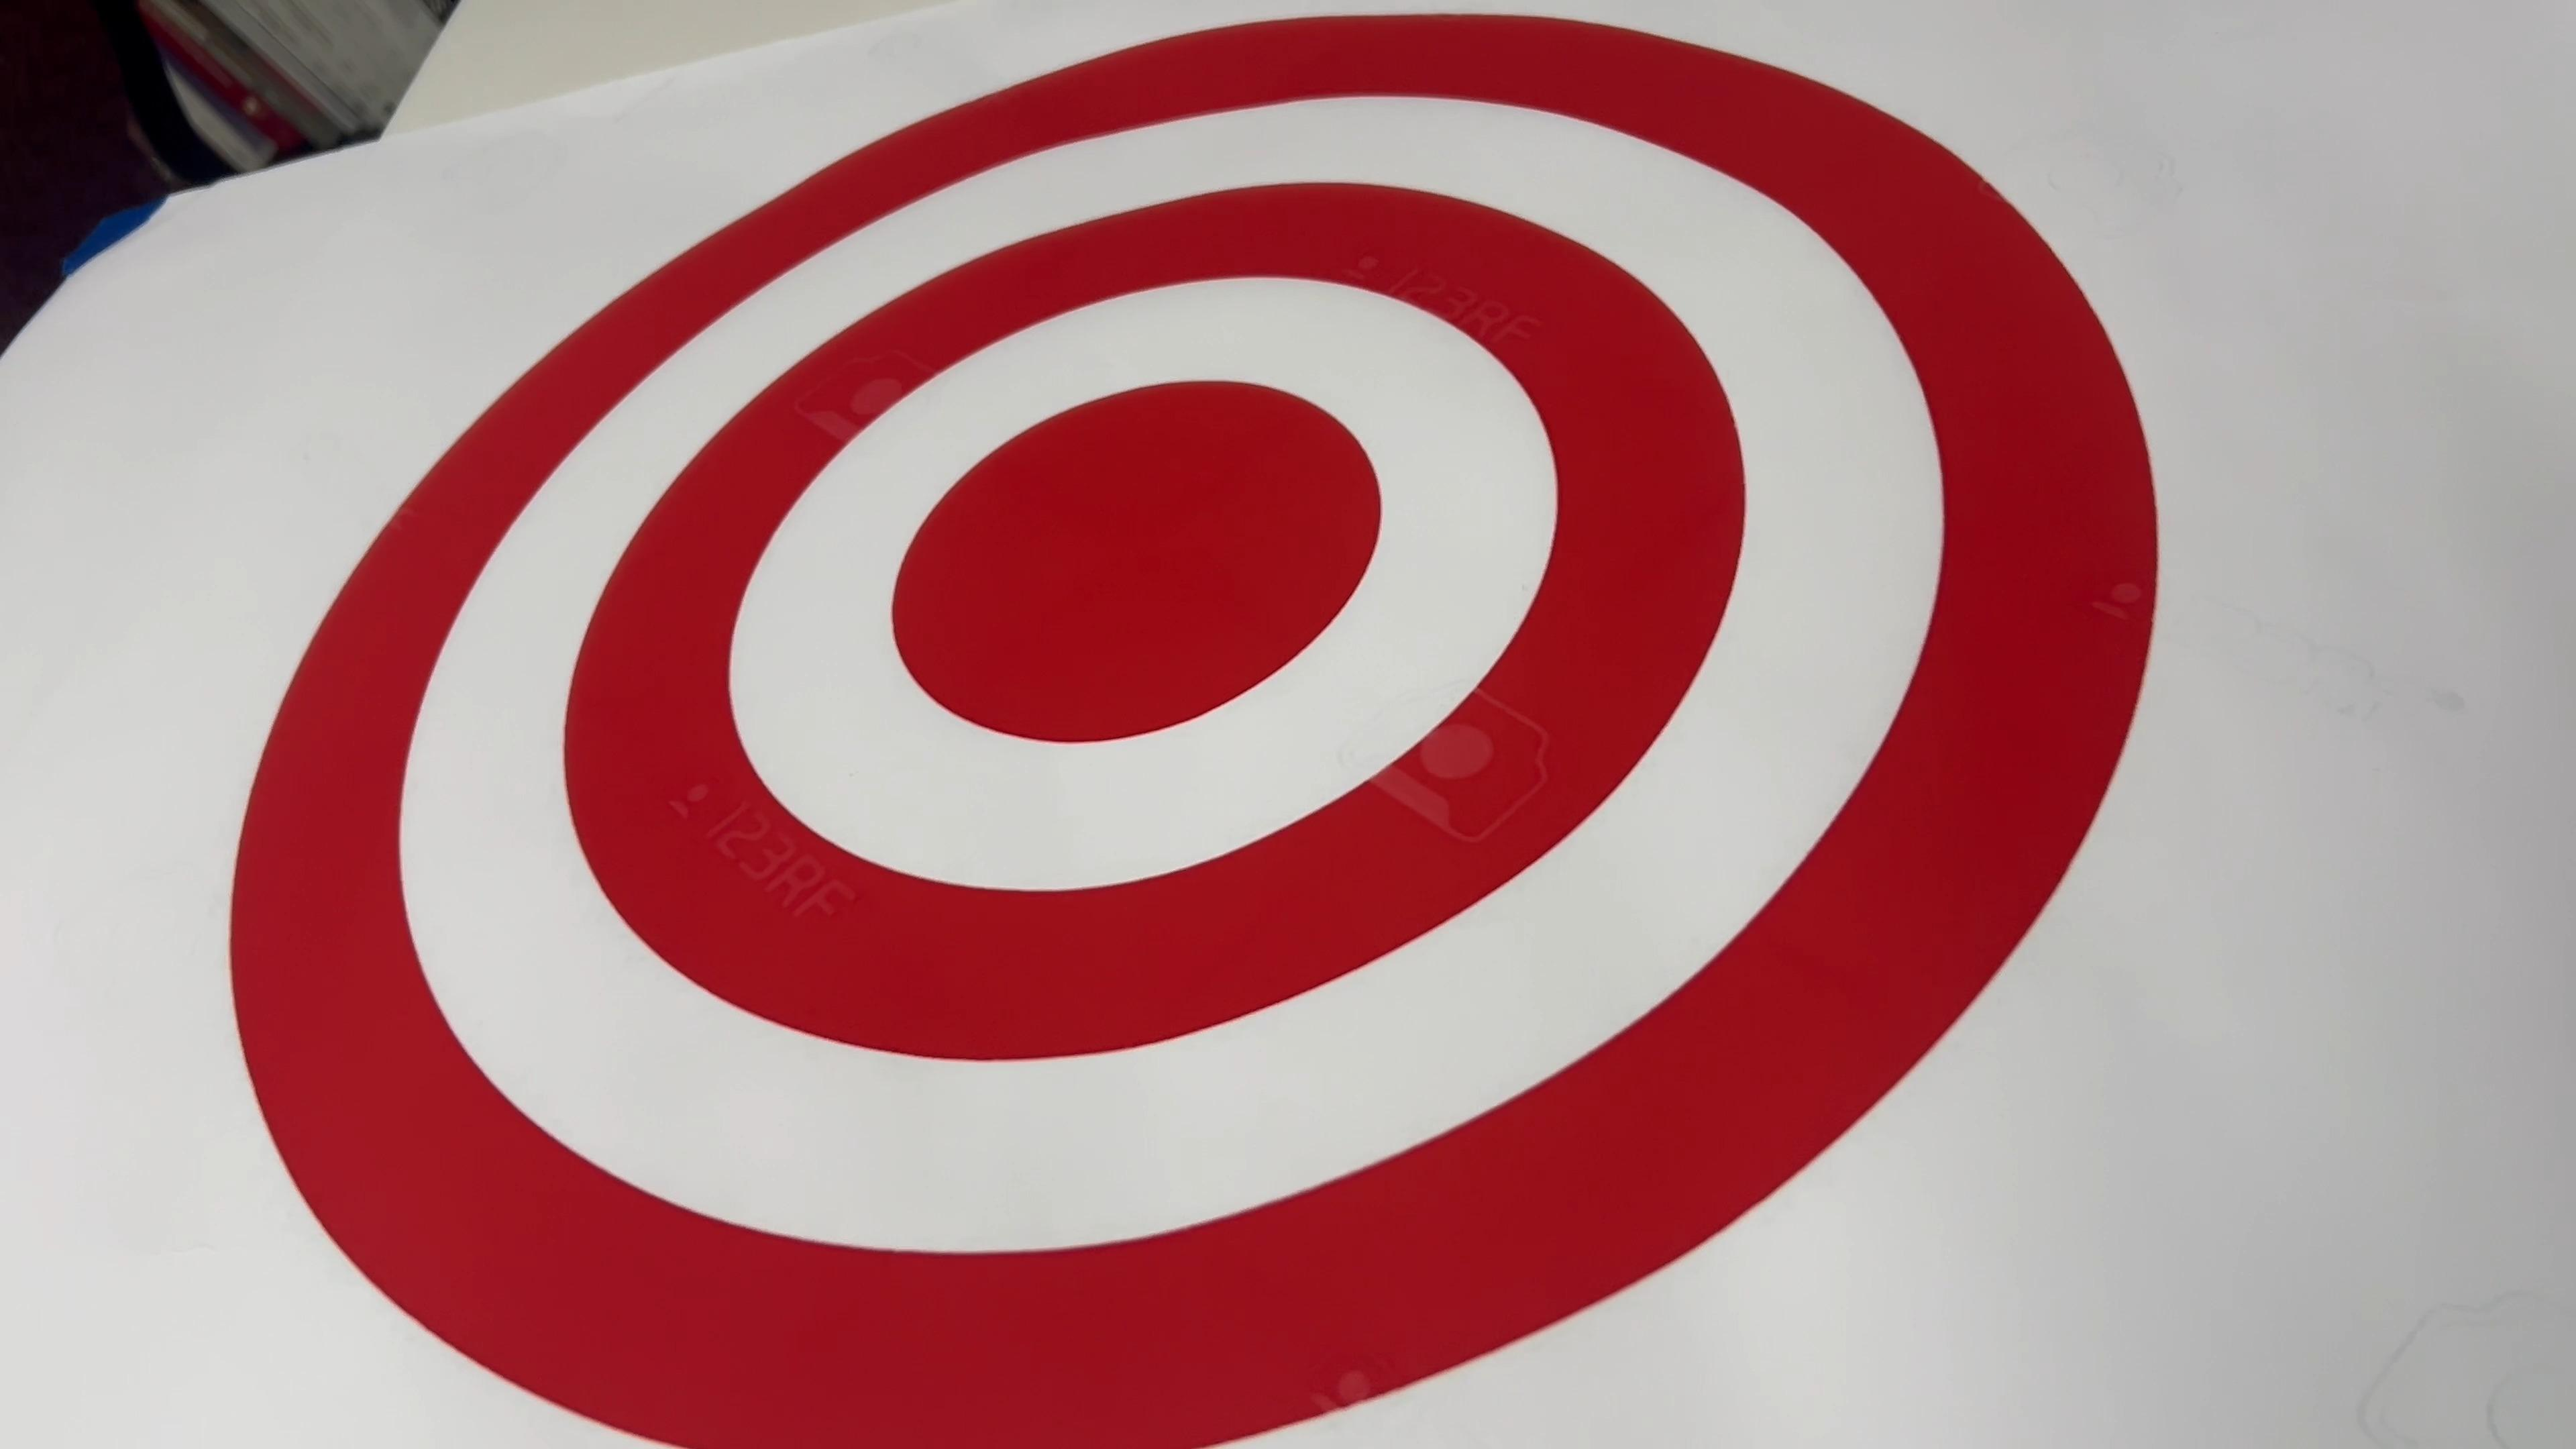target_red: (189, 2, 2178, 1449)
